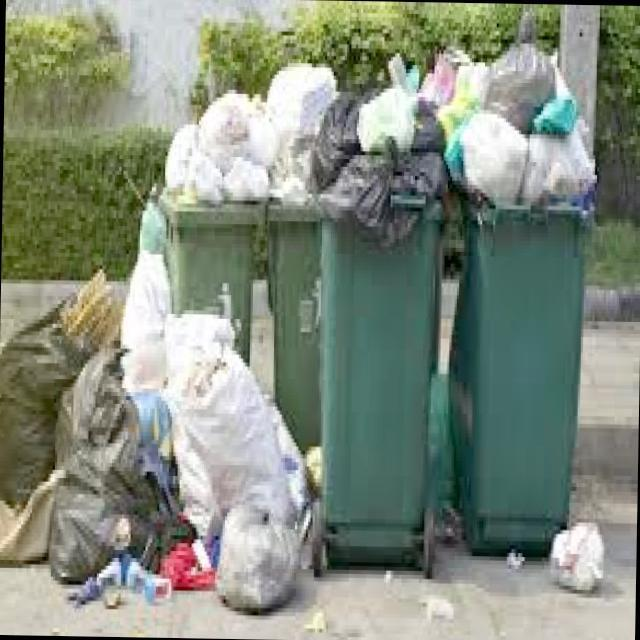garbage: (0, 19, 595, 620)
